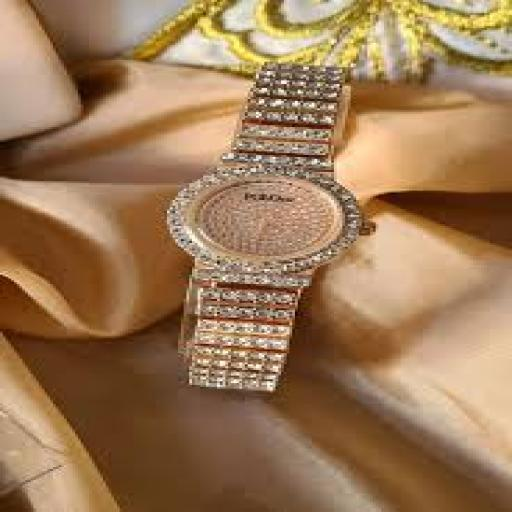KolSaati: (107, 32, 407, 399)
